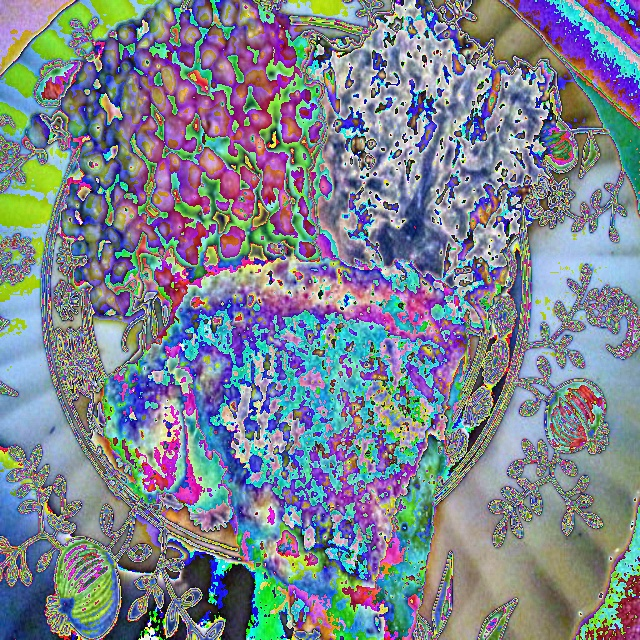background: (57, 0, 559, 640)
